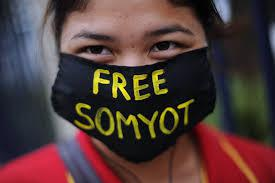OK: (62, 9, 210, 157)
